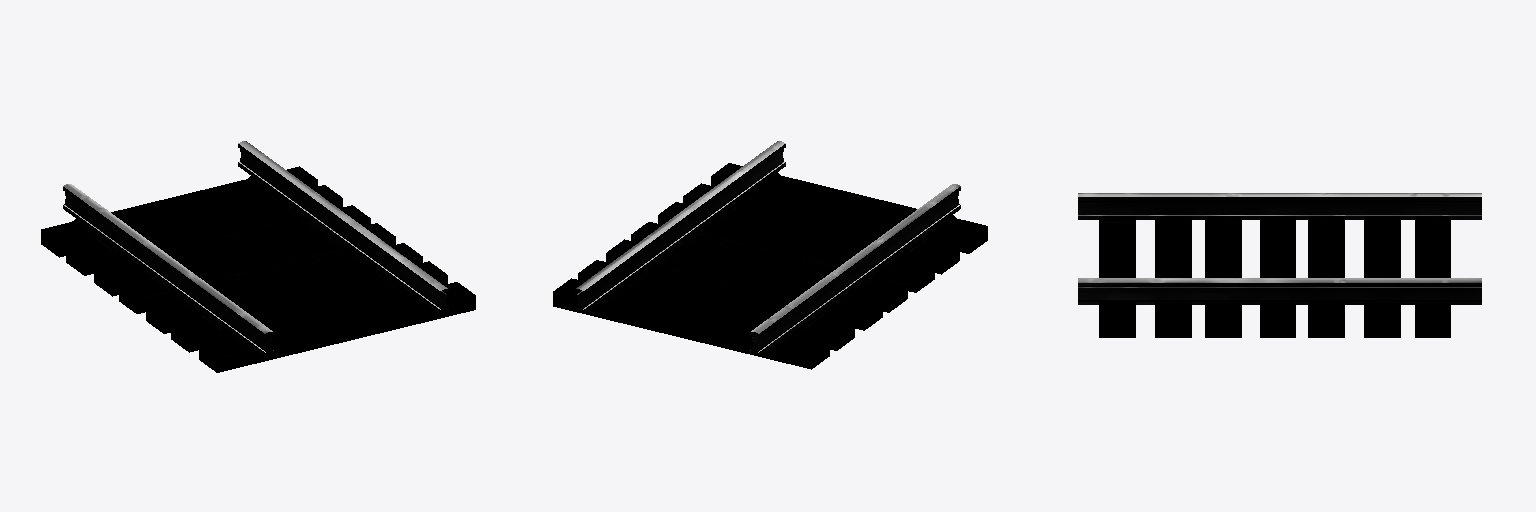
3 renders of one model, left to right at view 1: azimuth 30°, elevation 25°; view 2: azimuth 150°, elevation 25°; view 3: azimuth 270°, elevation 25°, orthographic.
Parts seen in each view (by area): view 1: Cube.002_Cube.002; view 2: Cube.002_Cube.002; view 3: Cube.002_Cube.002.
Boxes of the visible parts, x1=… form: Cube.002_Cube.002: x1=41, y1=141, x2=475, y2=372; Cube.002_Cube.002: x1=553, y1=141, x2=987, y2=369; Cube.002_Cube.002: x1=1078, y1=193, x2=1481, y2=337.
Bounding box in the file's own units: 10.42 × 1.49 × 14.1.
Materials: 1 (1 with a texture image).